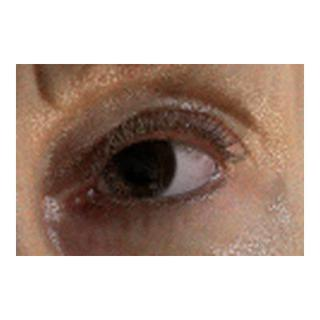pupil: (120, 147, 155, 181)
